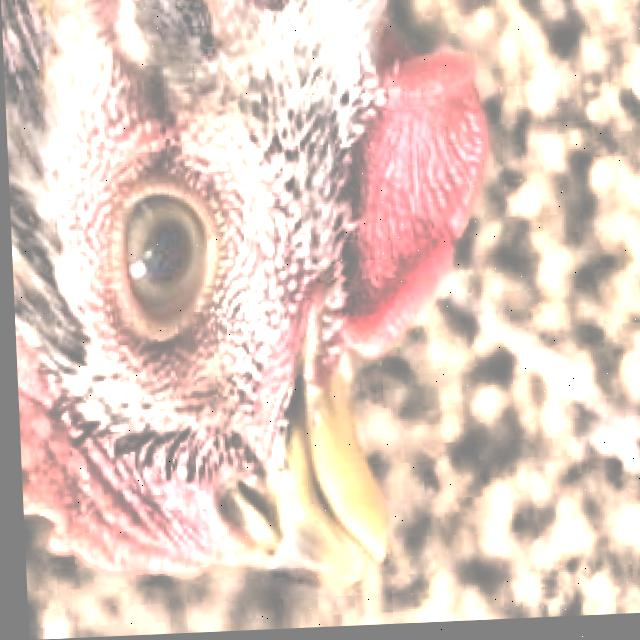Healthy: (72, 148, 236, 364)
